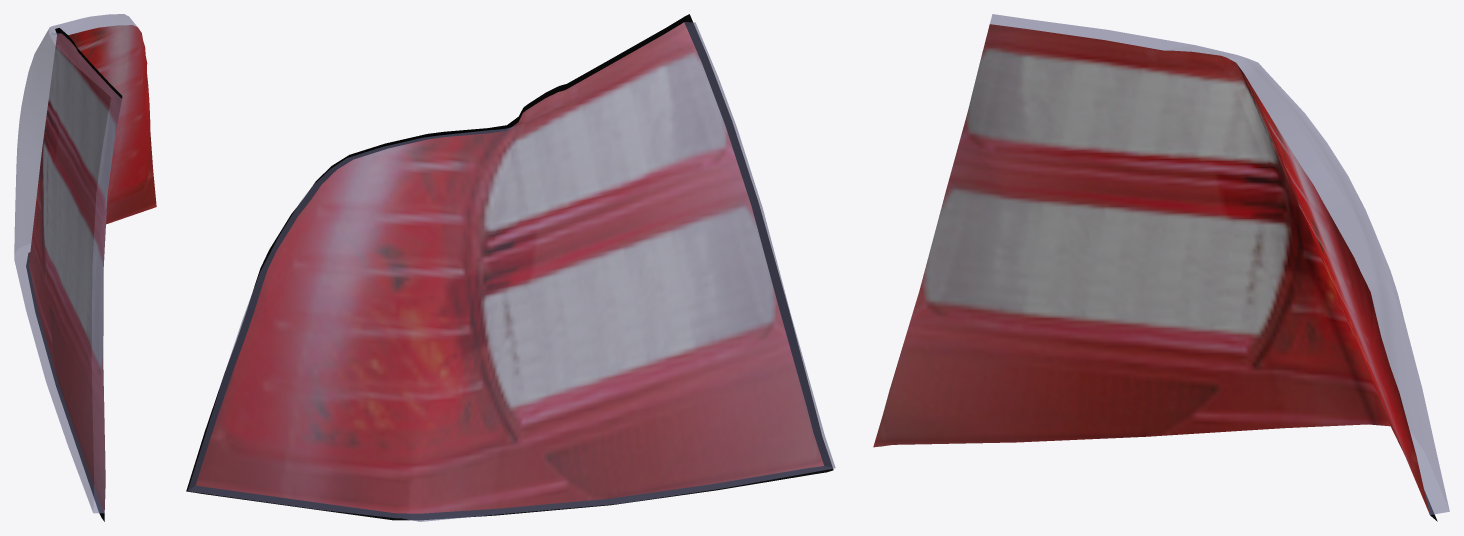
3 views of the same model, side by side, from view 1: azimuth 30°, elevation 25°; view 2: azimuth 150°, elevation 25°; view 3: azimuth 270°, elevation 25° (orthographic). The views are drawn at different scales.
Parts seen in each view (by area): view 1: X8163_541C_L_1_DTaSI_X8163_541C_L, X8163_541C_L_X8163_541C_L_2_N, X8163_541C_L_X8163_541C_L_3_D; view 2: X8163_541C_L_1_DTaSI_X8163_541C_L, X8163_541C_L_X8163_541C_L_2_N, X8163_541C_L_X8163_541C_L_3_D; view 3: X8163_541C_L_X8163_541C_L_2_N, X8163_541C_L_1_DTaSI_X8163_541C_L.
Boxes of the visible parts, x1,y1,x2,y2 form: X8163_541C_L_1_DTaSI_X8163_541C_L: [14, 14, 137, 513]; X8163_541C_L_X8163_541C_L_2_N: [29, 25, 156, 511]; X8163_541C_L_X8163_541C_L_3_D: [26, 28, 122, 521]; X8163_541C_L_1_DTaSI_X8163_541C_L: [188, 22, 835, 521]; X8163_541C_L_X8163_541C_L_2_N: [196, 22, 823, 513]; X8163_541C_L_X8163_541C_L_3_D: [186, 14, 833, 520]; X8163_541C_L_X8163_541C_L_2_N: [873, 24, 1429, 514]; X8163_541C_L_1_DTaSI_X8163_541C_L: [990, 14, 1449, 514].
Bounding box in the file's own units: 19.2 × 24.08 × 26.88.
